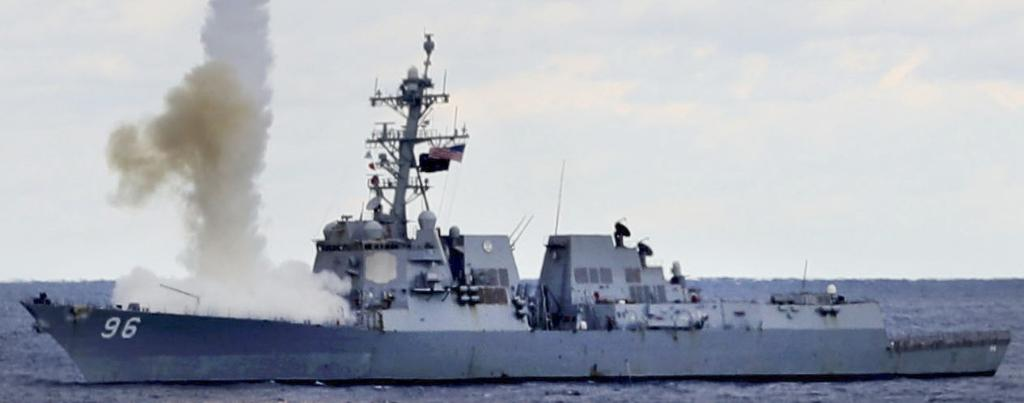Warship: (21, 35, 1017, 387)
